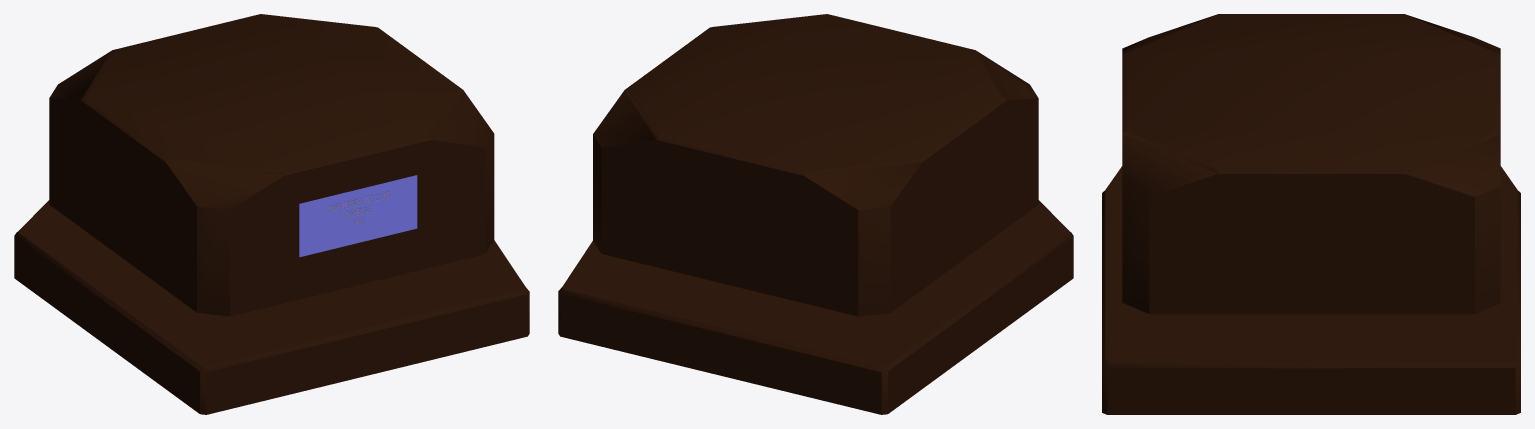
The model's file is peanaLatina.FBX.
3 renders of one model, left to right at view 1: azimuth 30°, elevation 25°; view 2: azimuth 150°, elevation 25°; view 3: azimuth 270°, elevation 25°, orthographic. The views are drawn at different scales.
Parts seen in each view (by area): view 1: peanaLatina; view 2: peanaLatina; view 3: peanaLatina.
Boxes of the visible parts, x1,y1,x2,y2 form: peanaLatina: (14,14,529,414); peanaLatina: (558,14,1073,414); peanaLatina: (1102,14,1520,414).
Size of the model in its own units: 73.56 by 45.45 by 73.56.
